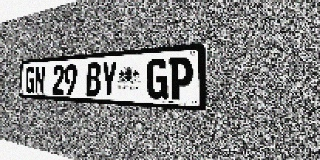2: (52, 65, 65, 95)
9: (64, 64, 77, 95)
B: (86, 62, 101, 96)
G: (147, 58, 168, 100), (25, 66, 35, 93)
N: (34, 66, 45, 94)
P: (169, 56, 193, 101)
Y: (101, 61, 117, 97)
